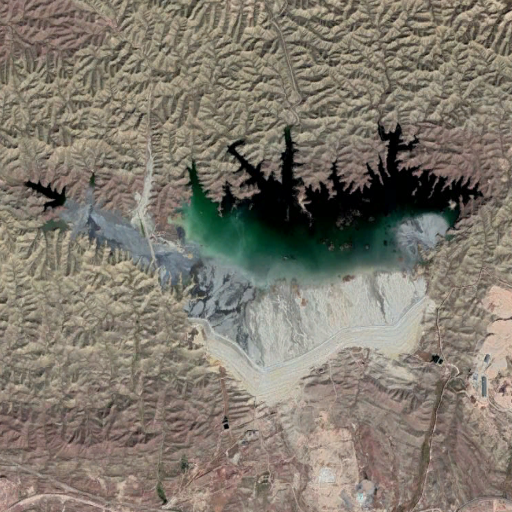tp: (23, 125, 486, 405)
